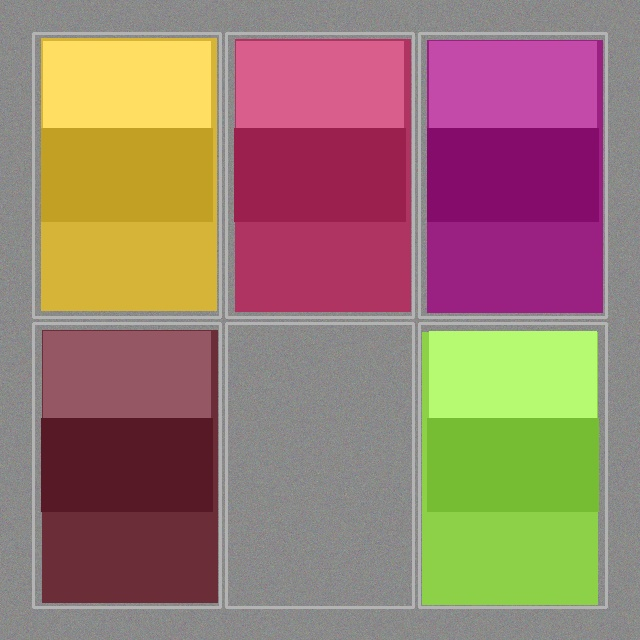space-empty: (228, 325, 411, 605)
space-occupied: (35, 35, 218, 315), (228, 35, 411, 315), (421, 35, 604, 315), (35, 325, 218, 605), (421, 325, 604, 605)
